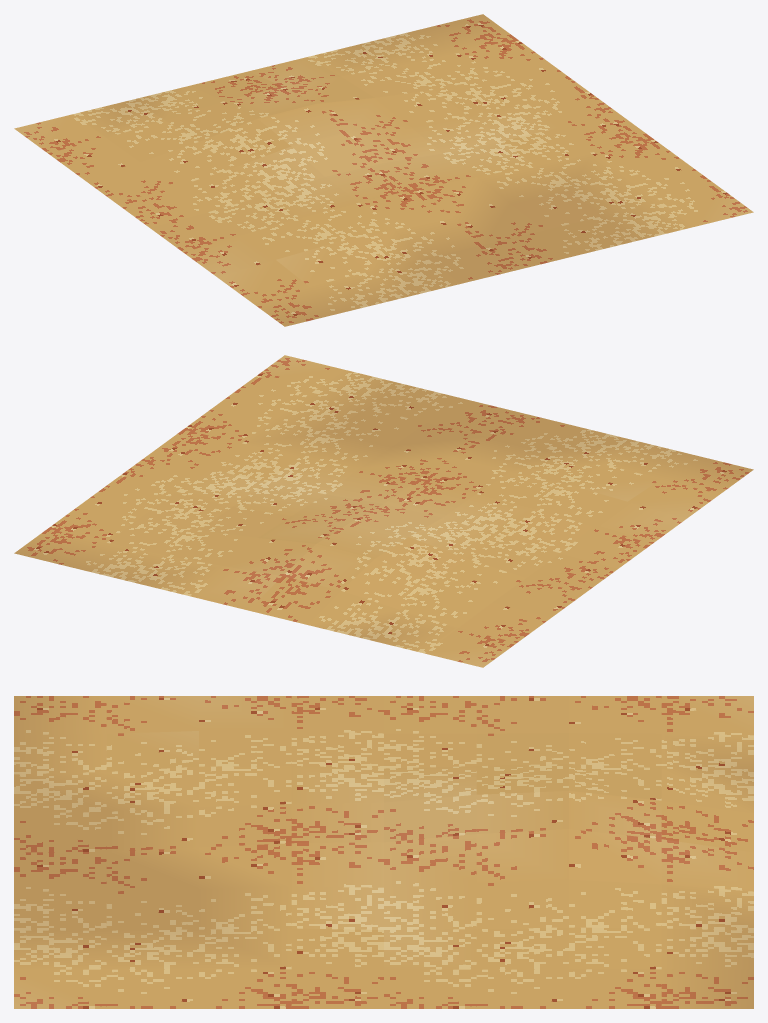
File: wland.ground__dunes.glb
3 views of the same model, one above another, from view 1: azimuth 30°, elevation 25°; view 2: azimuth 150°, elevation 25°; view 3: azimuth 270°, elevation 25° (orthographic). The views are drawn at different scales.
Parts seen in each view (by area): view 1: kit_shell_ground; view 2: kit_shell_ground; view 3: kit_shell_ground.
Boxes of the visible parts, x1=… form: kit_shell_ground: x1=14, y1=14, x2=753, y2=326; kit_shell_ground: x1=14, y1=355, x2=753, y2=667; kit_shell_ground: x1=14, y1=696, x2=753, y2=1008.
Size of the model in its own units: 12 by 0.418 by 12.
Materials: 1 (1 with a texture image).
